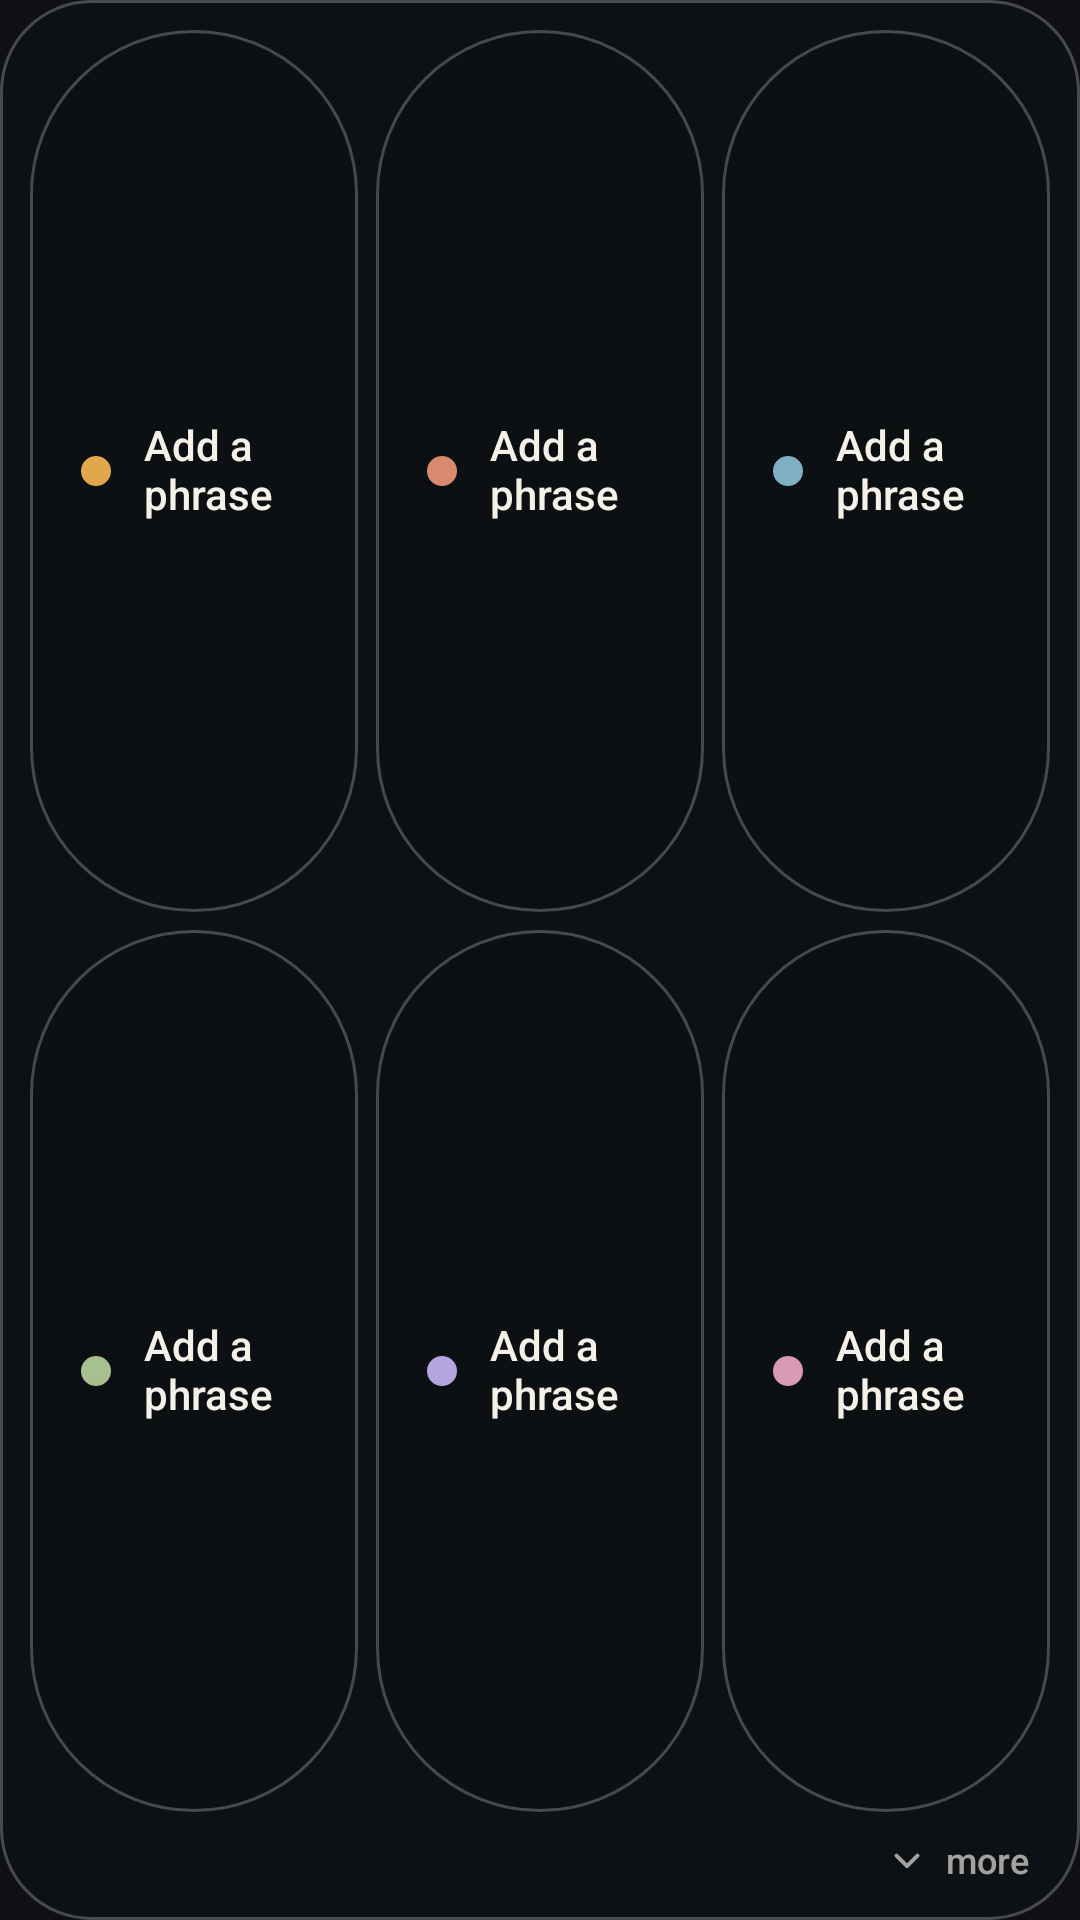

Icons on this 1080 × 1920 Android screen, each with the point to tap as (x,y):
chevron: (907,1860)
